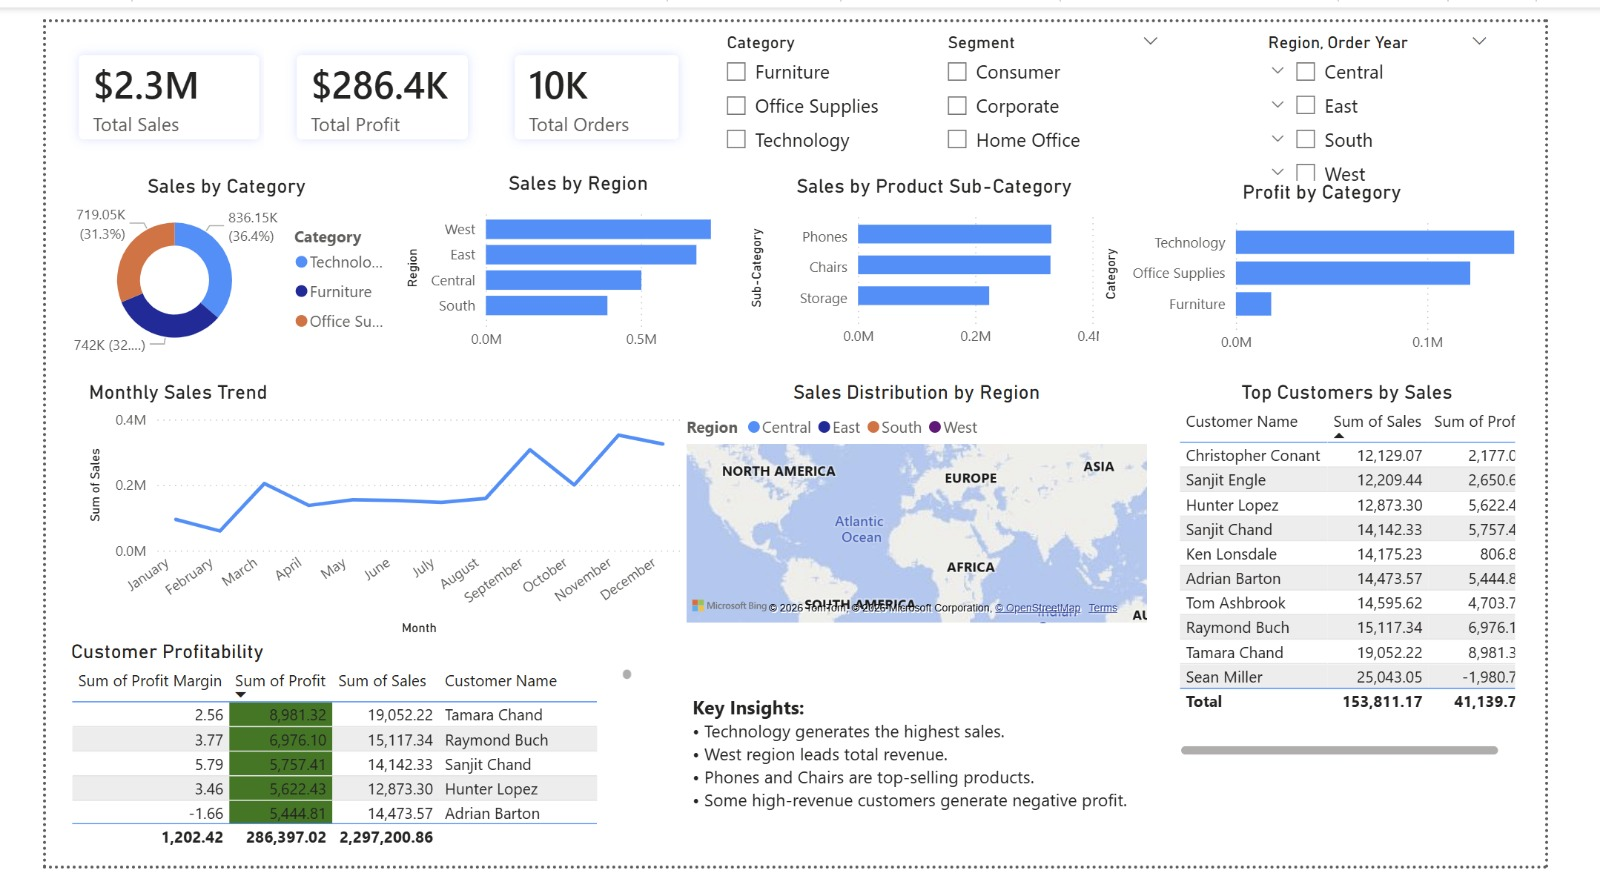

What the dashboard file says about the page in this screenshot:
{"tool":"powerbi","page":{"name":"Page 1","canvas":[1280,720],"ordinal":0},"visuals":[{"type":"cardVisual","fields":{"Data":["clean_superstore.Total Sales"]},"box":[0,0,210.9,128.2],"z":0},{"type":"cardVisual","fields":{"Data":["clean_superstore.Total Profit"]},"box":[185.8,0,202.5,128.2],"z":1000},{"type":"cardVisual","fields":{"Data":["clean_superstore.Total Orders"]},"box":[371.5,0,196.6,128.2],"z":2000},{"type":"clusteredBarChart","title":"Sales by Region","fields":{"Category":["clean_superstore.Region"],"Y":["Sum(clean_superstore.Sales)"]},"box":[302.5,127.8,303.8,160.8],"z":3000},{"type":"donutChart","title":"Sales by Category","fields":{"Y":["Sum(clean_superstore.Sales)"],"Category":["clean_superstore.Category"]},"box":[2.6,130.5,303.4,160.6],"z":4000},{"type":"lineChart","title":"Monthly Sales Trend","fields":{"Category":["clean_superstore.Order Date.Variation.Date Hierarchy.Month"],"Y":["Sum(clean_superstore.Sales)"]},"box":[31.9,306,515.1,221.8],"z":5000},{"type":"tableEx","title":"Top Customers by Sales","fields":{"Values":["clean_superstore.Customer Name","Sum(clean_superstore.Sales)","Sum(clean_superstore.Profit)"]},"box":[962.5,306,297.1,325.1],"z":6000},{"type":"slicer","fields":{"Values":["clean_superstore.Region","clean_superstore.Order Year"]},"box":[1030.7,3.6,212.1,143.8],"z":7000},{"type":"slicer","fields":{"Values":["clean_superstore.Category"]},"box":[568.1,3.6,189.4,122.2],"z":8000},{"type":"slicer","fields":{"Values":["clean_superstore.Segment"]},"box":[757.5,3.6,204.9,122.2],"z":9000},{"type":"clusteredBarChart","title":"Sales by Product Sub-Category","fields":{"Category":["clean_superstore.Sub-Category"],"Y":["Sum(clean_superstore.Sales)"]},"box":[596.2,130.4,324.1,155.7],"z":10000},{"type":"clusteredBarChart","title":"Profit by Category","fields":{"Y":["Sum(clean_superstore.Profit)"],"Category":["clean_superstore.Category"]},"box":[898.7,135.4,381,155.7],"z":11000},{"type":"tableEx","title":"Customer Profitability","fields":{"Values":["Sum(clean_superstore.Profit Margin)","Sum(clean_superstore.Profit)","Sum(clean_superstore.Sales)","clean_superstore.Customer Name"]},"box":[16.8,527.3,489,182.2],"z":12000},{"type":"filledMap","title":"Sales Distribution by Region","fields":{"Series":["clean_superstore.Region"]},"box":[541.8,306,402.9,211.6],"z":13000},{"type":"textbox","box":[546.9,568.6,387.6,140.2],"z":14000}]}

Visuals, with their boxes in screenshot pixels (x1, y1, x2, y2), scaled from the page's 1280x720 canvas onto the 1600x893 screenshot:
cardVisual - clean_superstore.Total Sales: locate(0, 0, 264, 159)
cardVisual - clean_superstore.Total Profit: locate(232, 0, 485, 159)
cardVisual - clean_superstore.Total Orders: locate(464, 0, 710, 159)
"Sales by Region" clusteredBarChart: locate(378, 159, 758, 358)
"Sales by Category" donutChart: locate(3, 162, 382, 361)
"Monthly Sales Trend" lineChart: locate(40, 380, 684, 655)
"Top Customers by Sales" tableEx: locate(1203, 380, 1574, 783)
slicer - clean_superstore.Region x clean_superstore.Order Year: locate(1288, 4, 1554, 183)
slicer - clean_superstore.Category: locate(710, 4, 947, 156)
slicer - clean_superstore.Segment: locate(947, 4, 1203, 156)
"Sales by Product Sub-Category" clusteredBarChart: locate(745, 162, 1150, 355)
"Profit by Category" clusteredBarChart: locate(1123, 168, 1599, 361)
"Customer Profitability" tableEx: locate(21, 654, 632, 880)
"Sales Distribution by Region" filledMap: locate(677, 380, 1181, 642)
textbox: locate(684, 705, 1168, 879)
